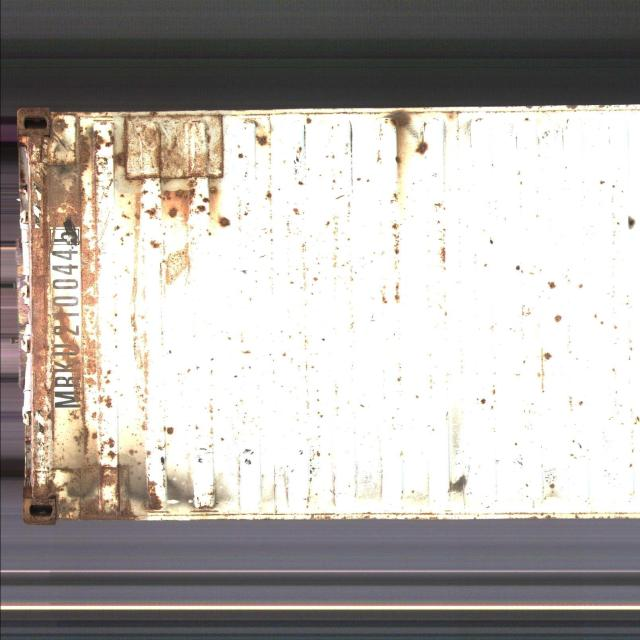rust: (32, 240, 109, 406), (113, 124, 231, 221), (38, 126, 103, 231), (71, 452, 167, 521), (384, 114, 431, 165)
